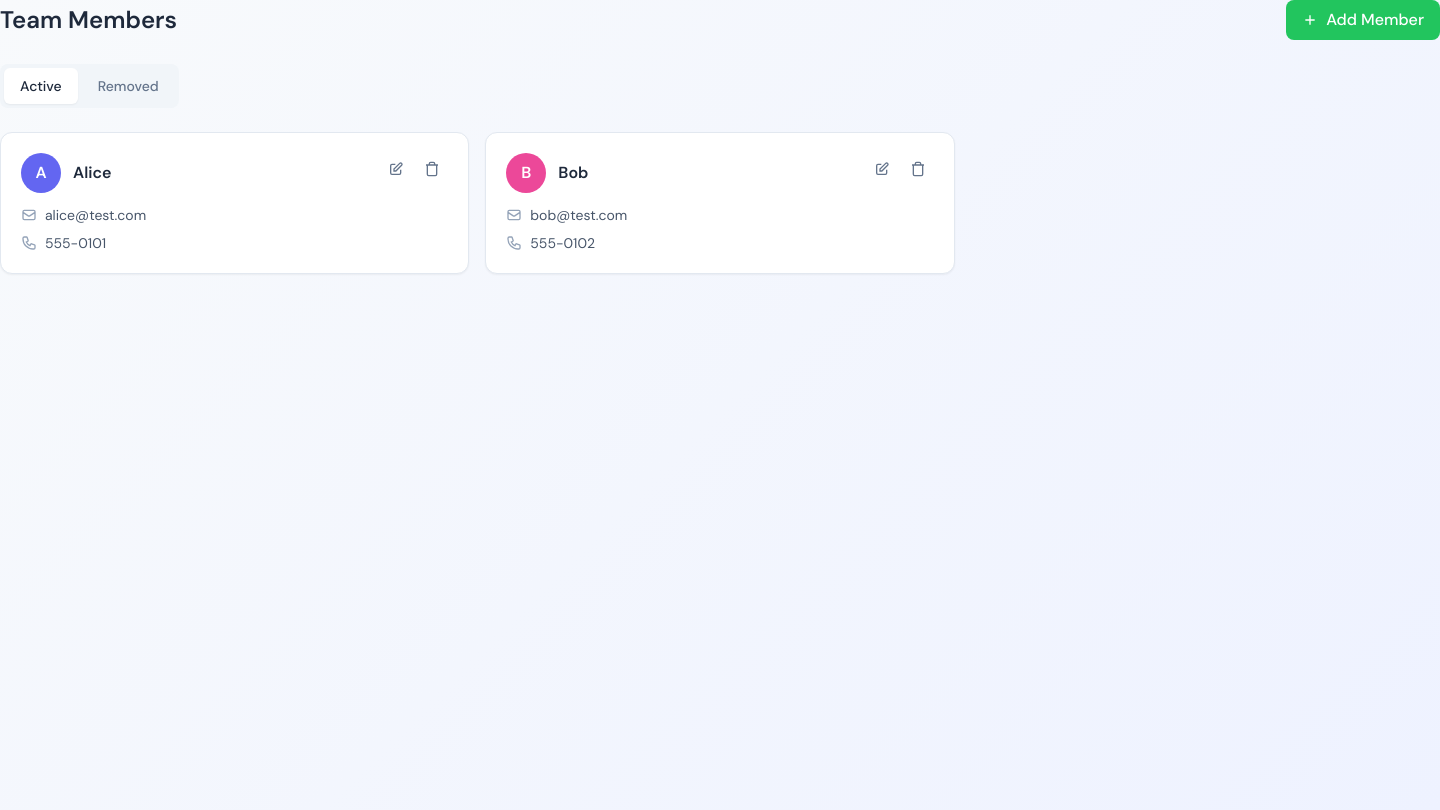
Test: ContactsPage › shows confirmation modal with shift count
Check: the heading "Alice" is shown, box [73,161,111,185]
Click the button named "remove". click: (432, 169)
box: [416,153,448,185]
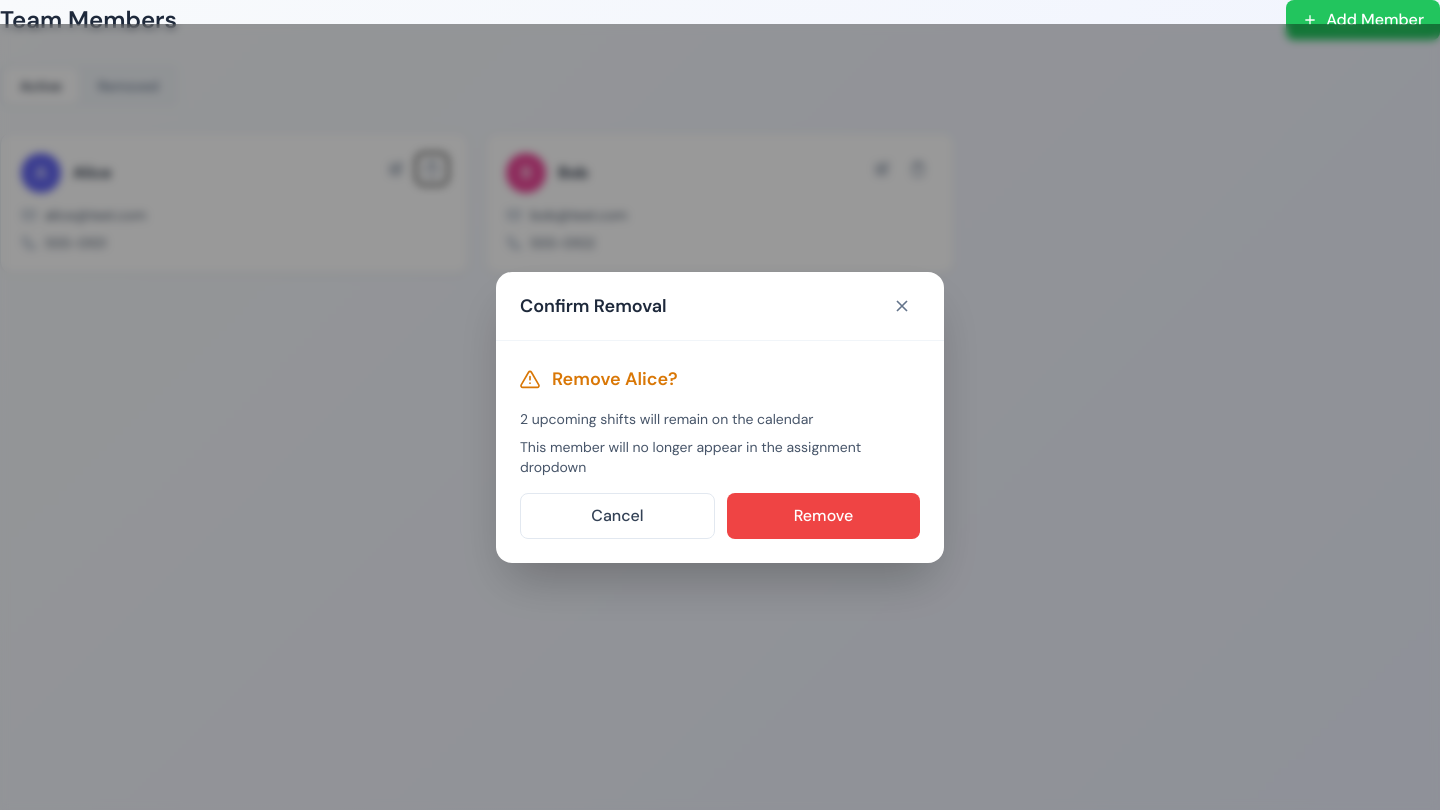
Check: the text "2 upcoming shifts will remain on the calendar" is shown, box [520,410,813,428]
